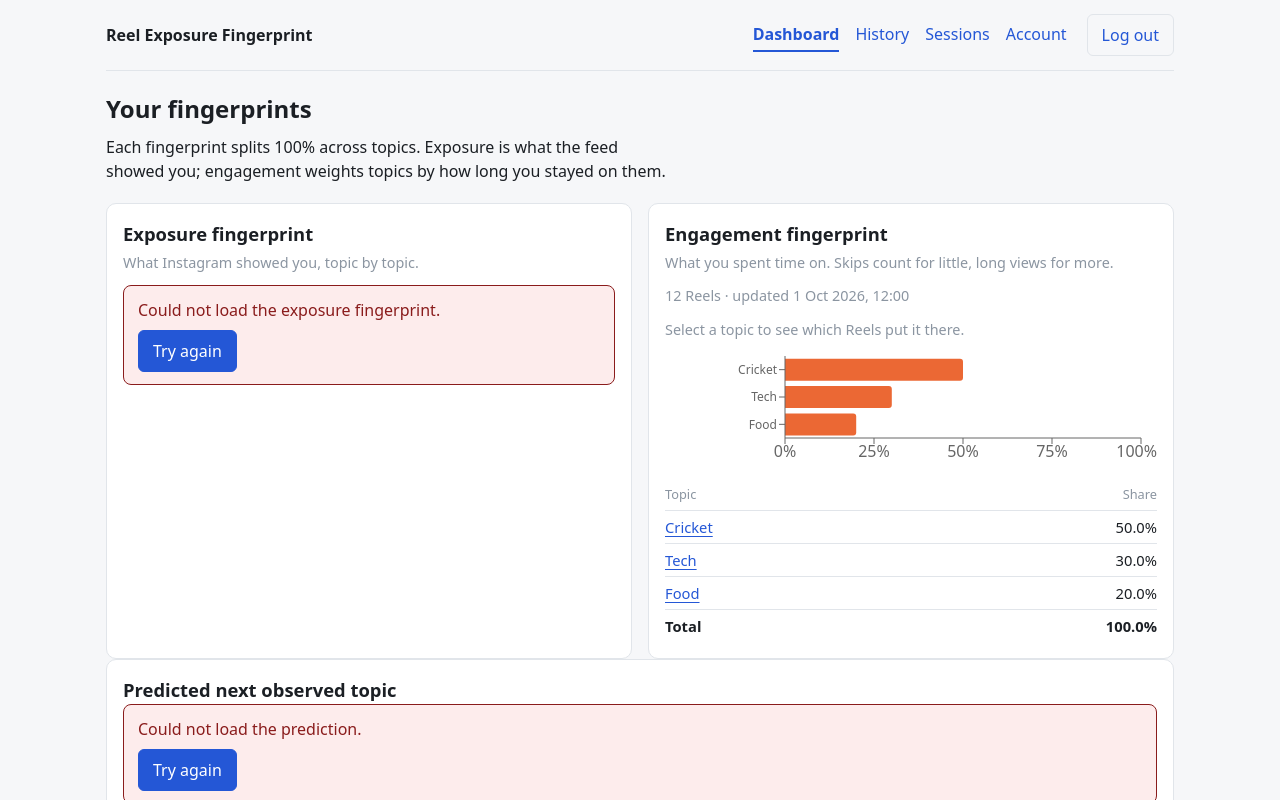
dashboard page › shows an error with retry, and retry loads the data
Click the 1st button "Try again": (187, 351) [138,330,237,372]
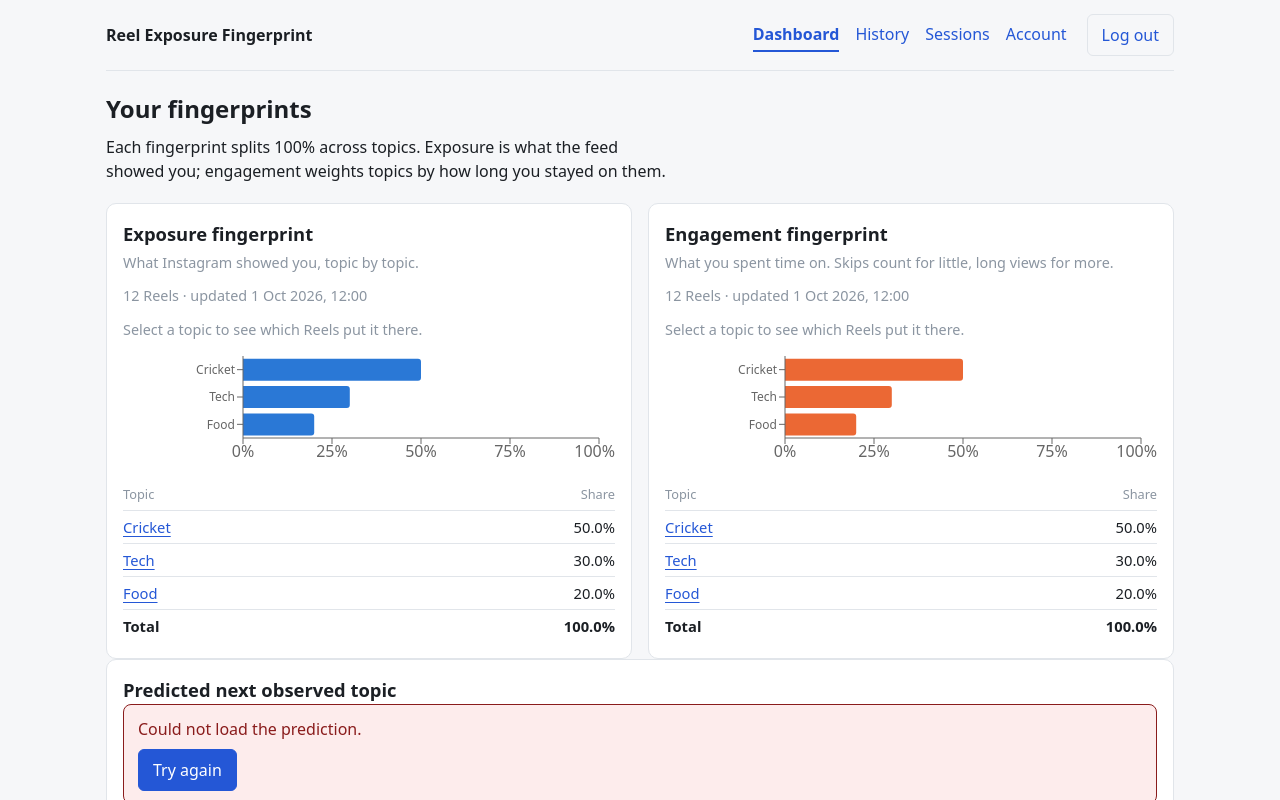
Now the table named "Exposure fingerprint topic shares" is shown, box [123,480,615,642]
